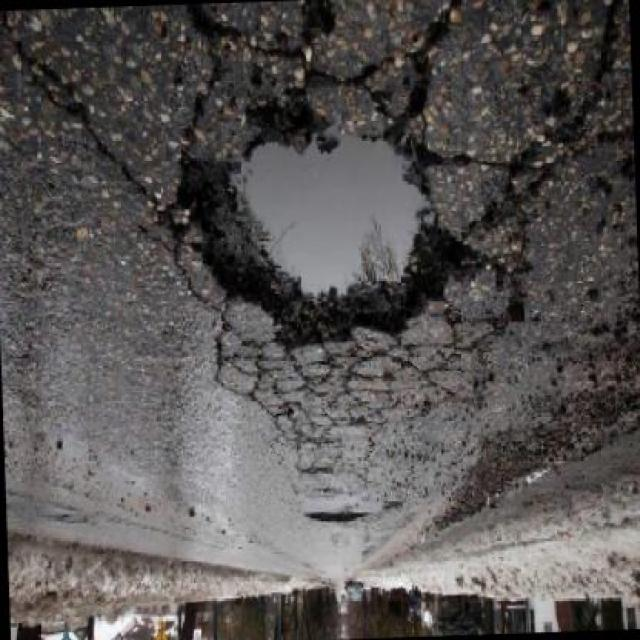pothole1: (164, 85, 481, 363), (308, 508, 366, 529)
